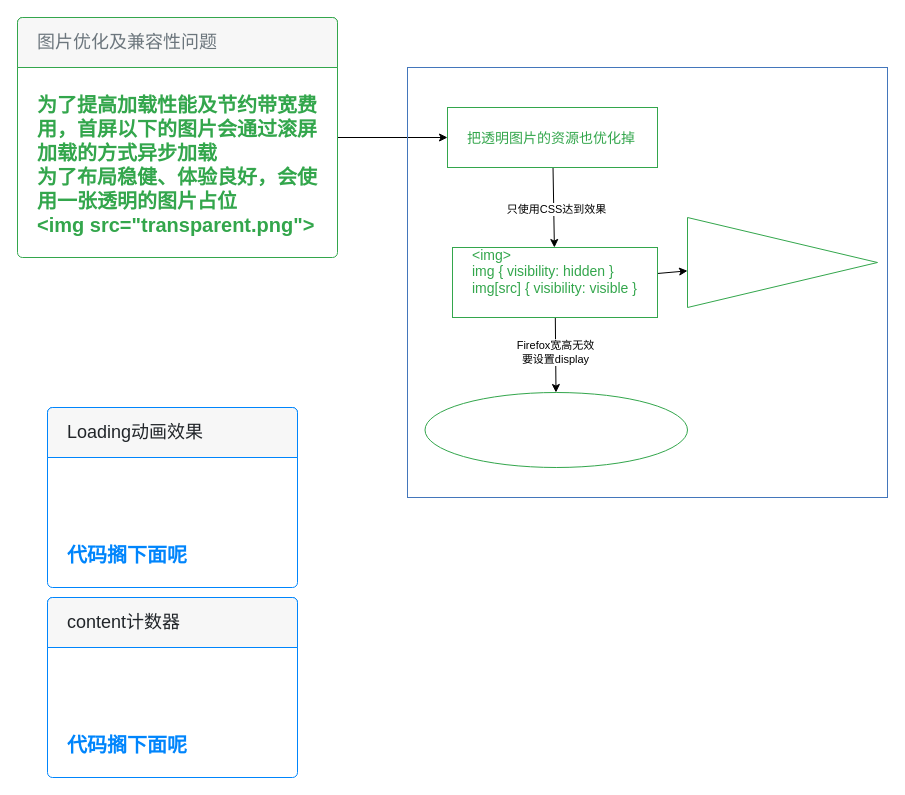
Some shapes in this 905 by 795 pixel diagram are drawn without their labels. The shapes that lost their labels are listed below. From the top down, each one's centre as x and y in pixels, then its label:
the point at 782,262: 不能有src属性 有了也会有请求 请求当前页面数据
the point at 556,430: img { width: 200px; height: 150px; } img { display: inline-block }
